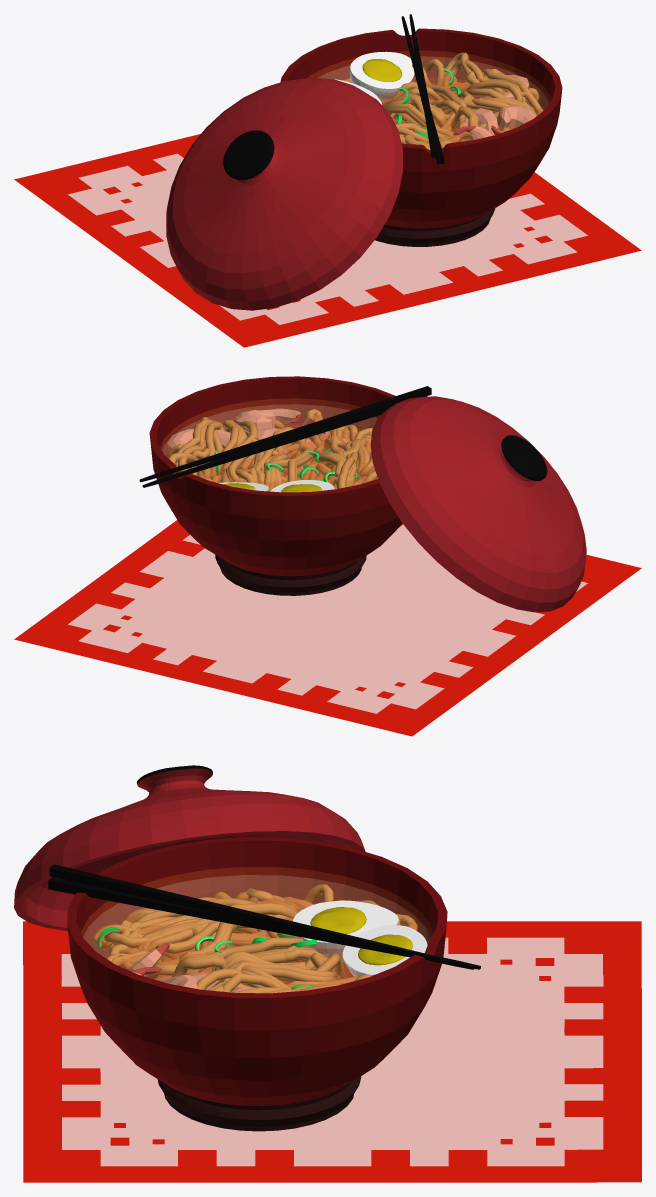
The model's file is ramen_mobile.glb.
3 renders of one model, top to bottom at view 1: azimuth 30°, elevation 25°; view 2: azimuth 150°, elevation 25°; view 3: azimuth 270°, elevation 25°, orthographic. The views are drawn at different scales.
Visible parts, largest first — view 1: Object_15; view 2: Object_15; view 3: Object_15.
Part boxes in pixels (x1,y1,x2,y2): Object_15: (14,14,641,347); Object_15: (14,376,641,736); Object_15: (14,765,641,1182).
Bounding box in the file's own units: 0.5245 × 0.213 × 0.5326.
Materials: 4 (4 with a texture image).
